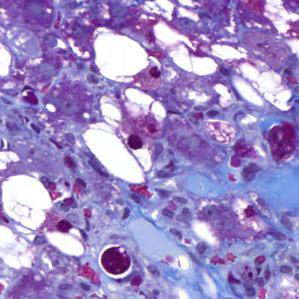ballooning: (153, 21, 248, 77), (226, 57, 296, 119), (91, 25, 153, 85), (3, 173, 56, 234)
